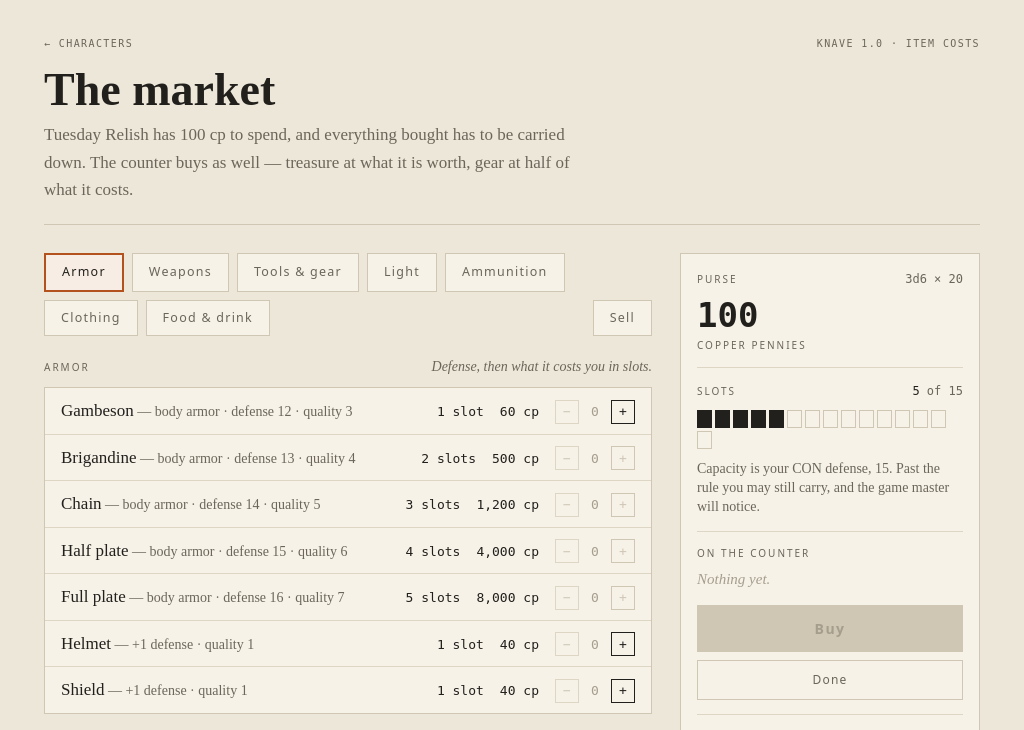
Test: the counter, selling › takes it back off the block when it is clicked again
The width and height of the screenshot is (1024, 730).
Click the button "Sell" at (622, 318), box x1=593 y1=300 x2=652 y2=336
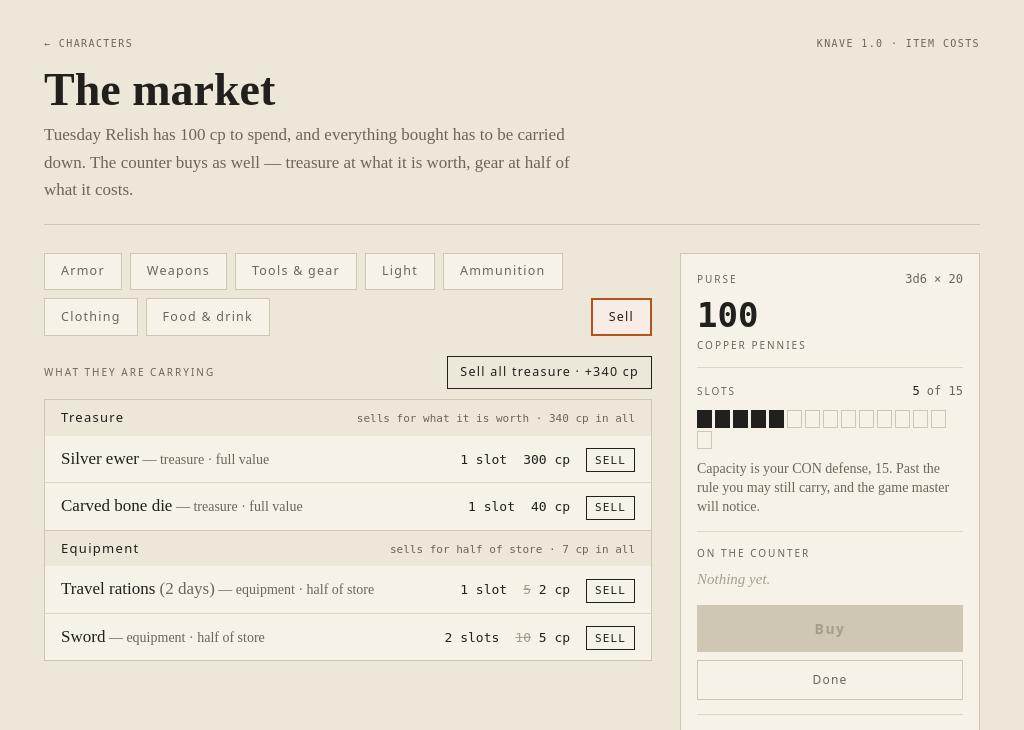
Click the button "Sell" next to "300 cp" at (611, 460), box x1=586 y1=448 x2=635 y2=472
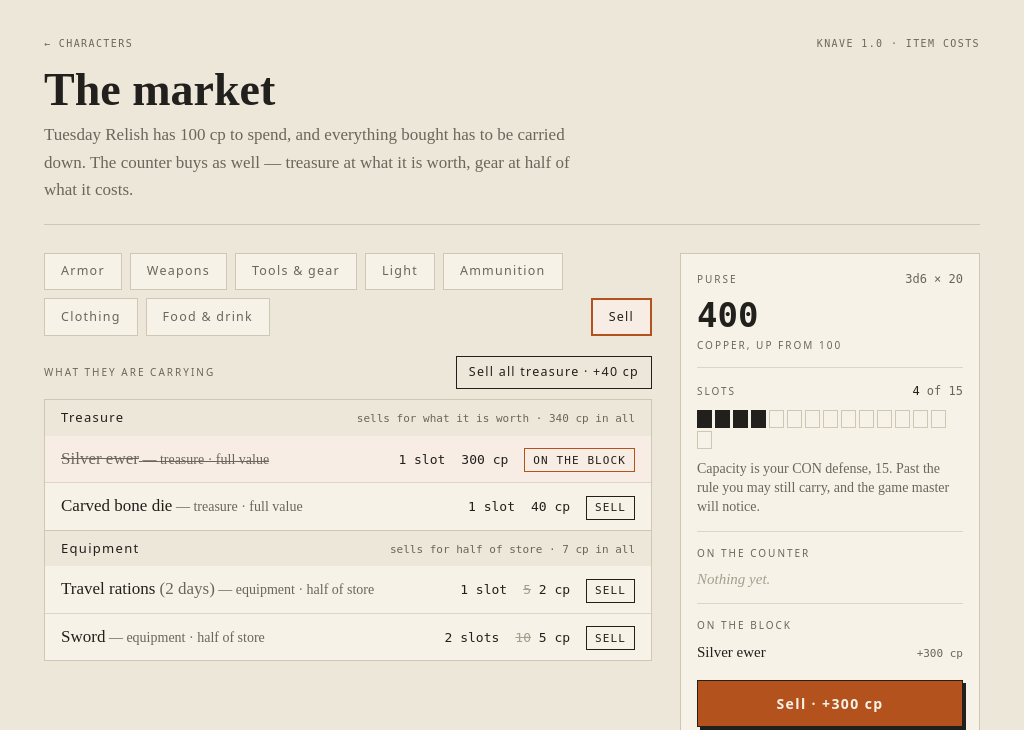
Click the button "On the block" at (580, 460), box x1=524 y1=448 x2=635 y2=472
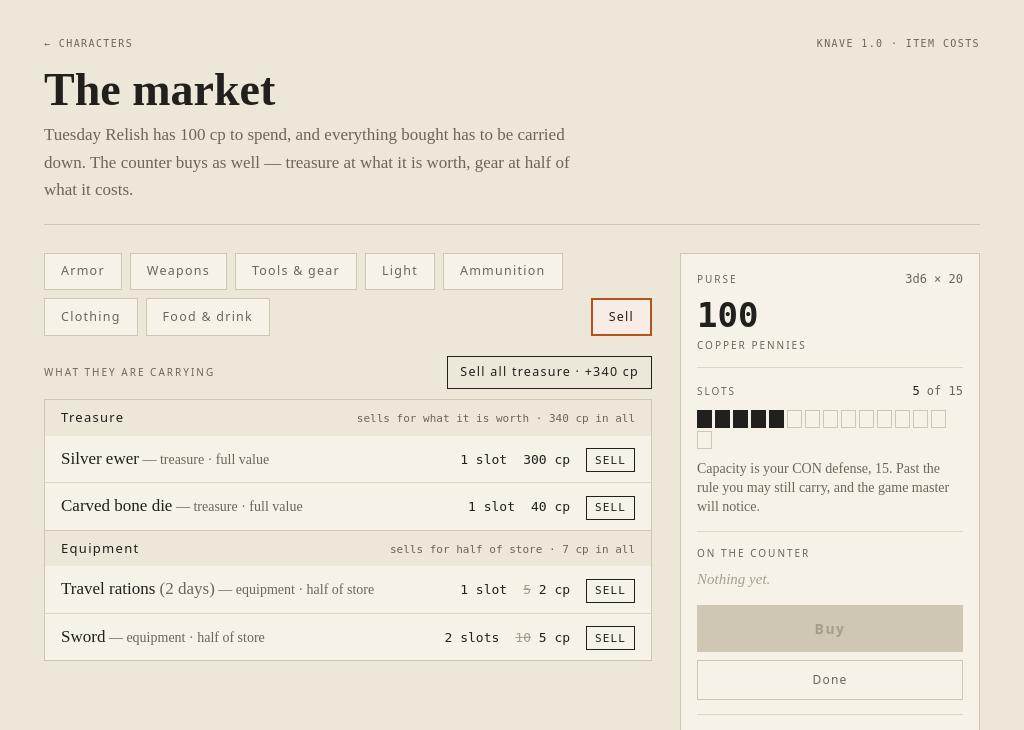
Check: the text "On the block" is gone
Check: the button "Buy" is disabled, box x1=697 y1=605 x2=963 y2=652
